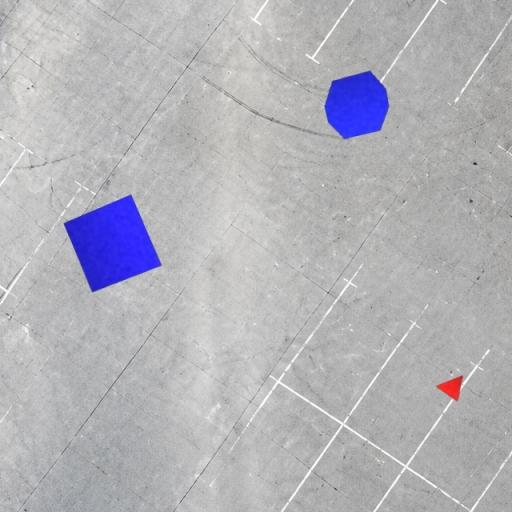BLUE_SQUARE: (64, 194, 162, 293)
